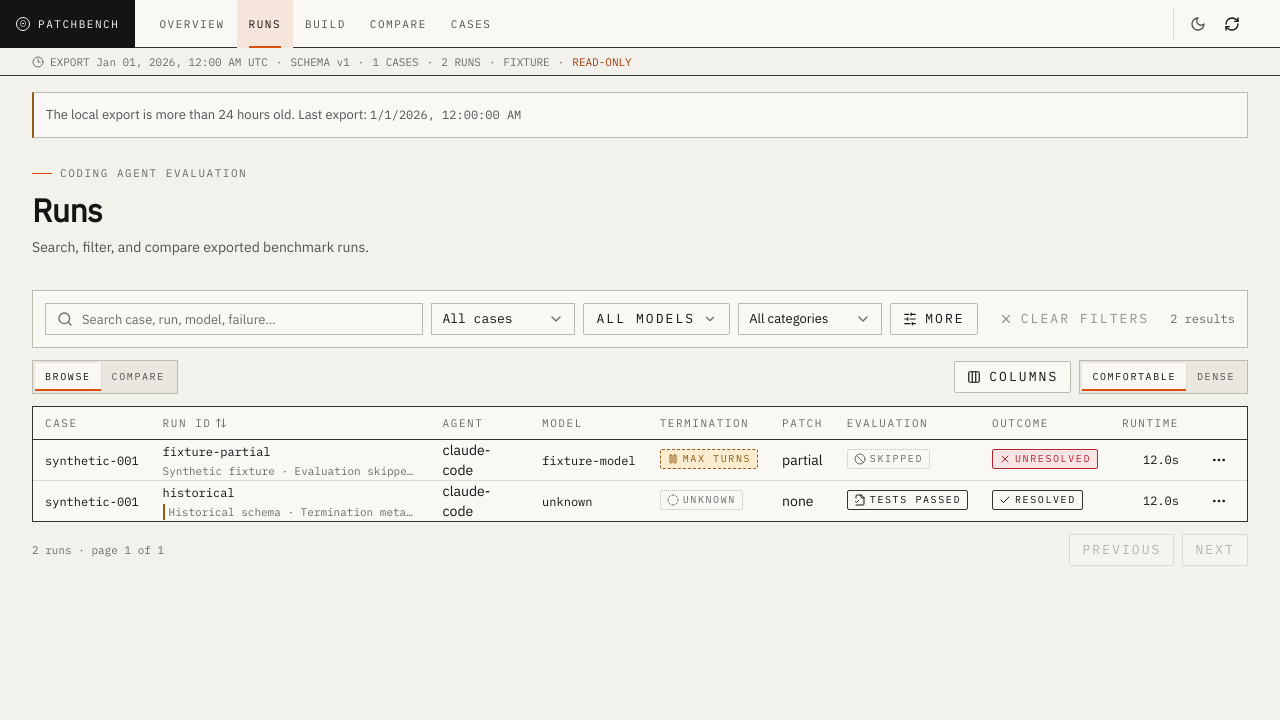
PatchBench evaluation workspace › explains unknown historical status metadata
expect the heading "Runs" is shown: met, box [32, 189, 102, 231]
Hover over the text "unknown" at (701, 500), box [660, 490, 743, 510]
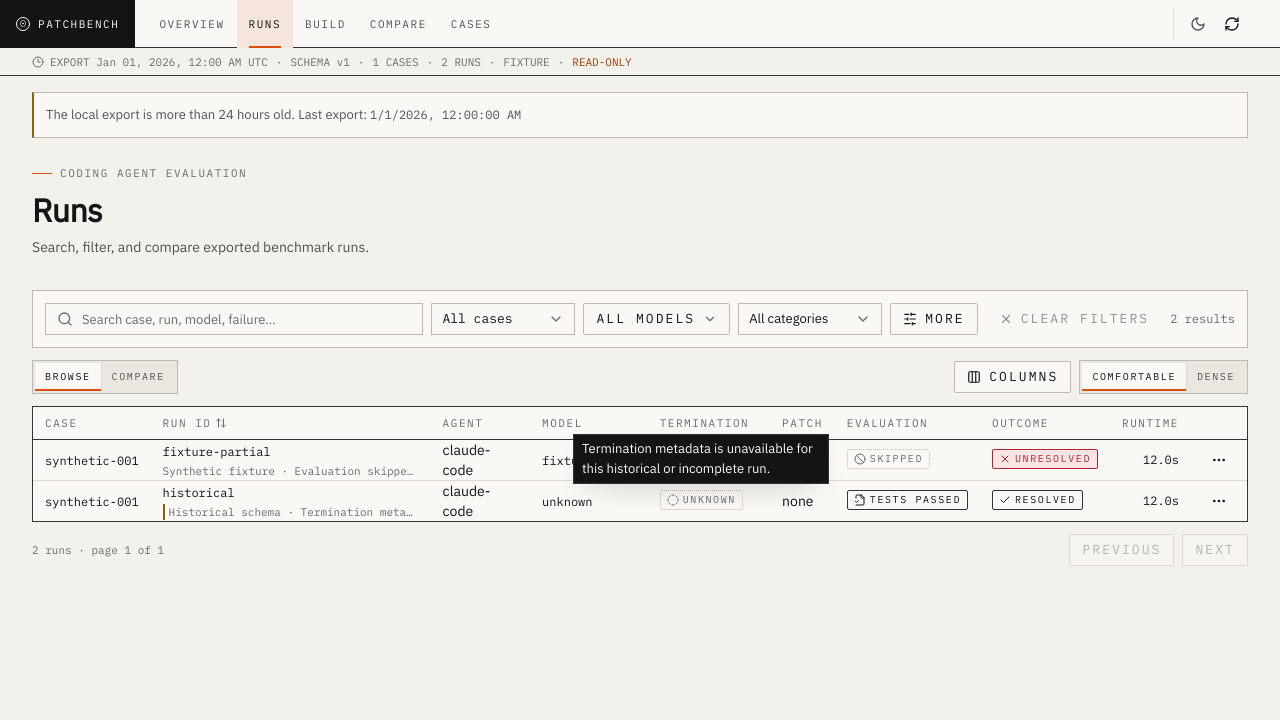
expect the tooltip "metadata is unavailable" is shown: met, box [582, 440, 813, 477]
